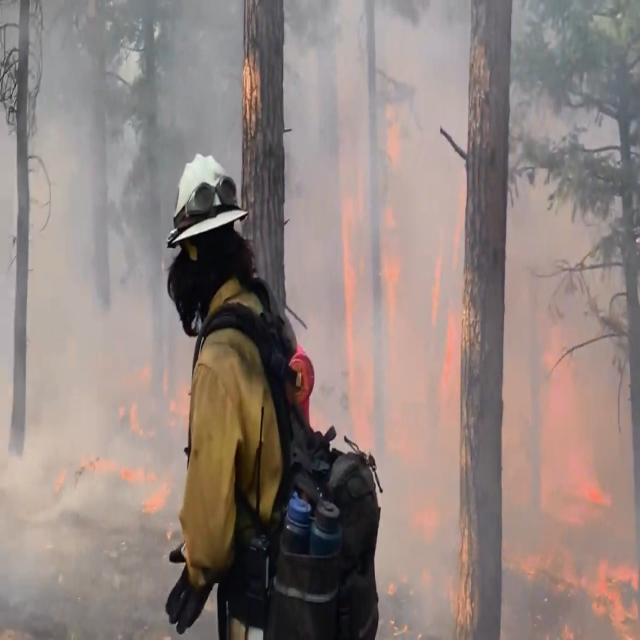Fire: (331, 110, 638, 624)
